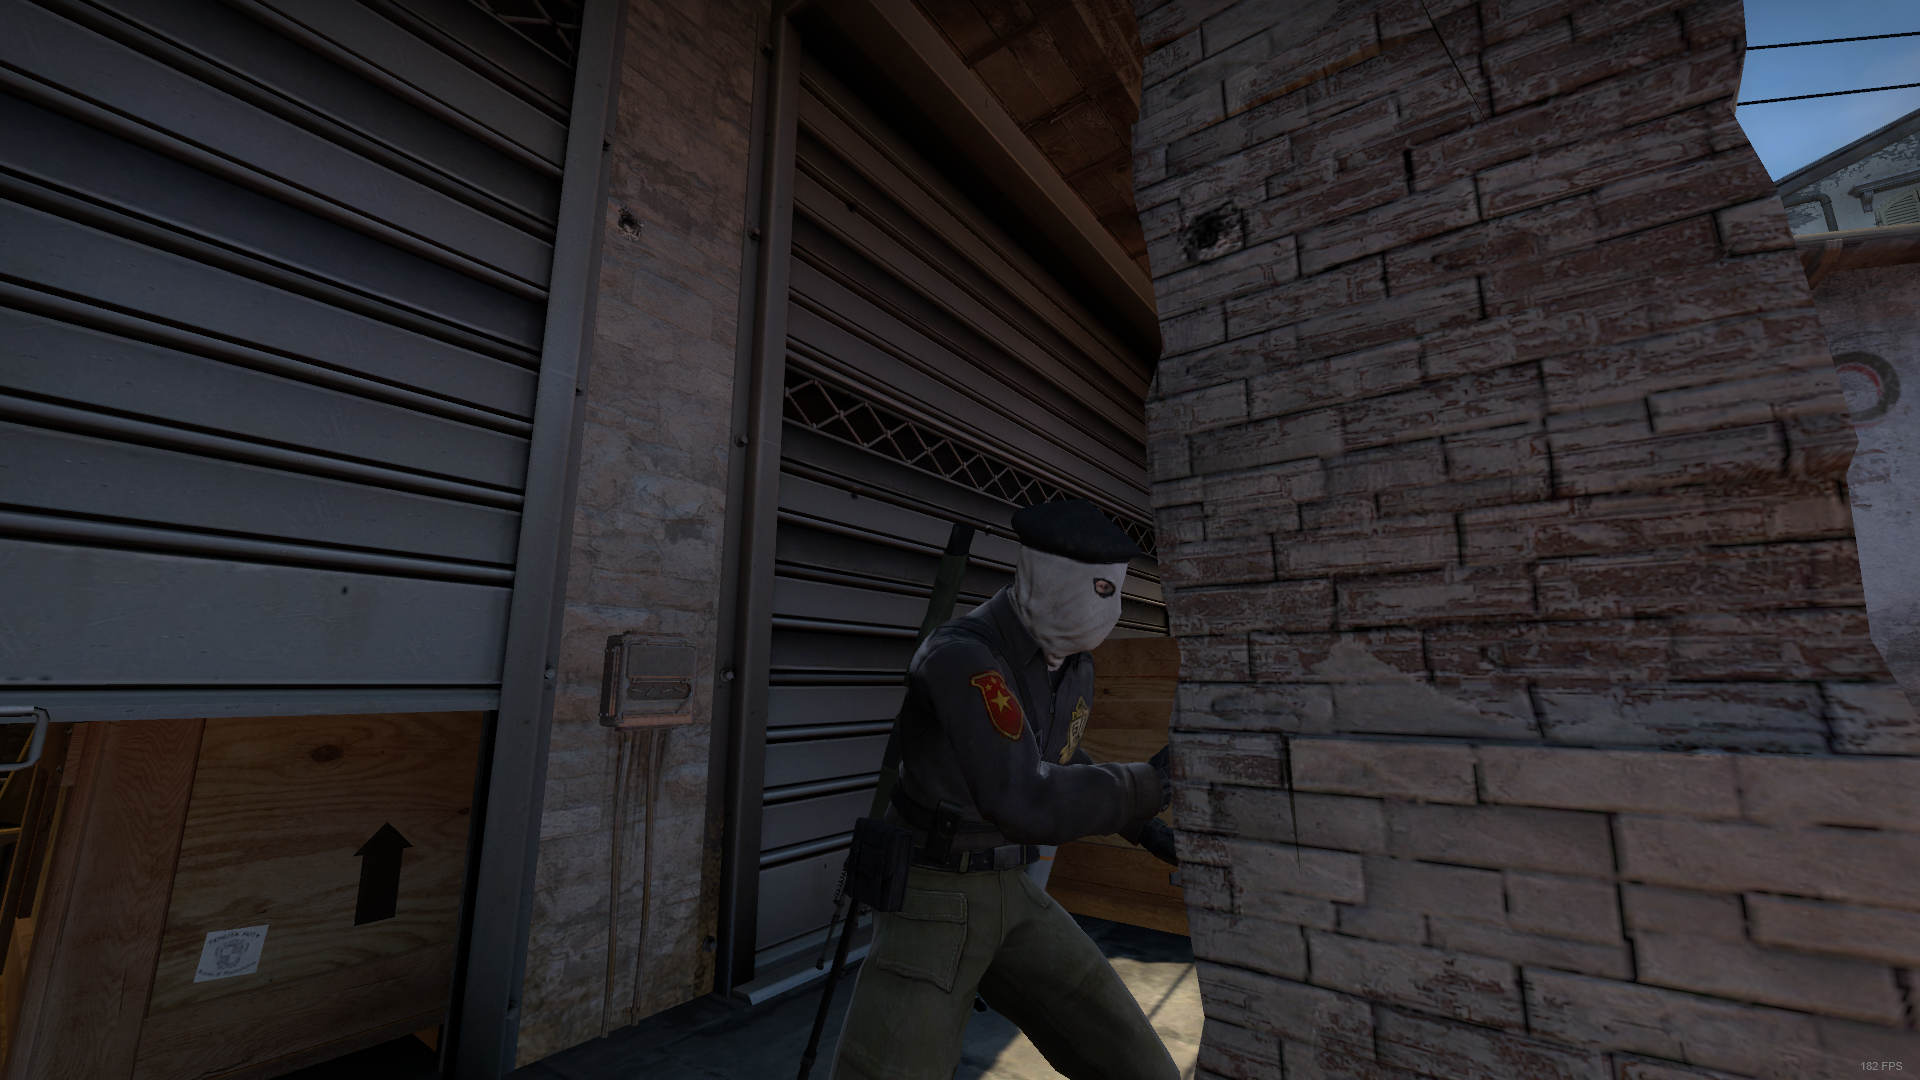t: (824, 498, 1180, 1080)
